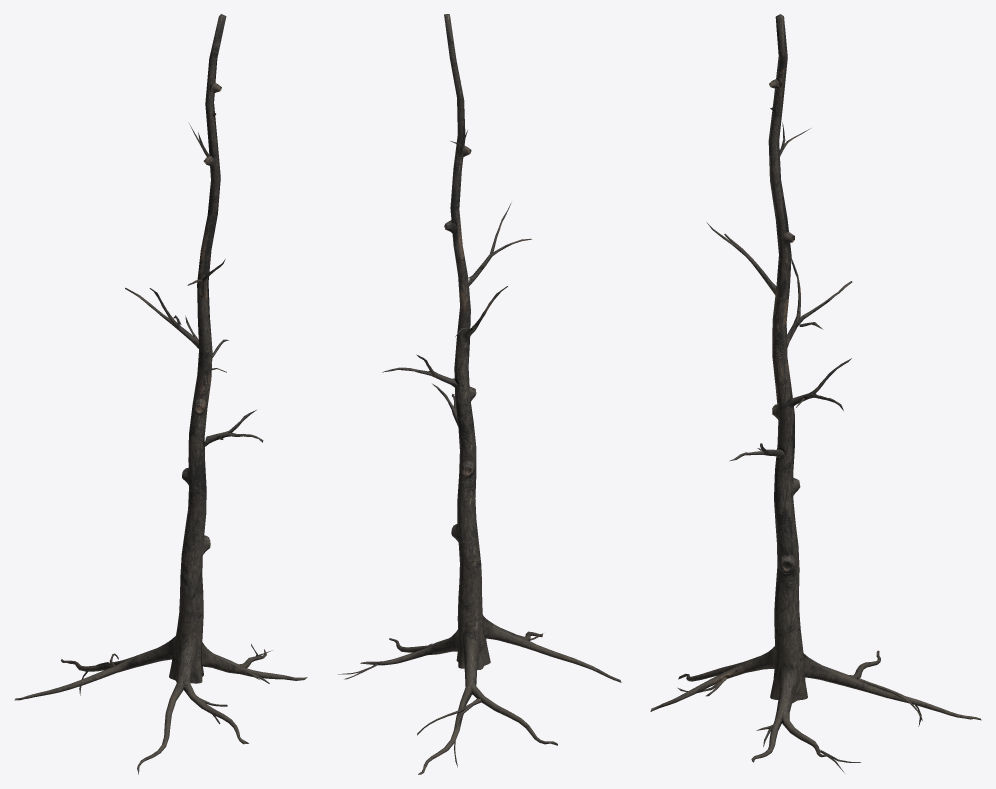
File: SM_TreeBattlefield02.glb
The picture shows the model from 3 angles, left to right: view 1: azimuth 30°, elevation 25°; view 2: azimuth 150°, elevation 25°; view 3: azimuth 270°, elevation 25°; orthographic projection. The views are drawn at different scales.
Visible parts, largest first — view 1: SM_TreeBattlefield02; view 2: SM_TreeBattlefield02; view 3: SM_TreeBattlefield02.
Boxes of the visible parts, x1,y1,x2,y2 form: SM_TreeBattlefield02: [14, 14, 307, 774]; SM_TreeBattlefield02: [338, 14, 621, 774]; SM_TreeBattlefield02: [650, 14, 981, 772].
Size of the model in its own units: 2.6 by 7.24 by 2.89.
1 material, 1 textured.
